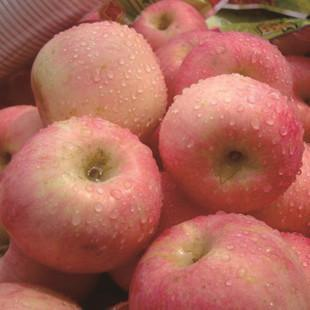apple: (5, 114, 163, 277), (157, 73, 305, 211), (124, 215, 310, 310), (31, 21, 166, 134), (132, 1, 214, 49)
